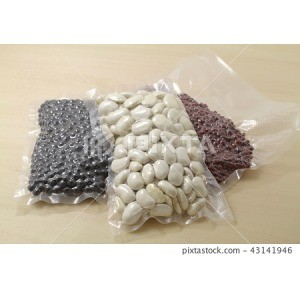beans_brain food: (110, 99, 181, 233), (23, 95, 90, 210), (203, 111, 251, 192)
